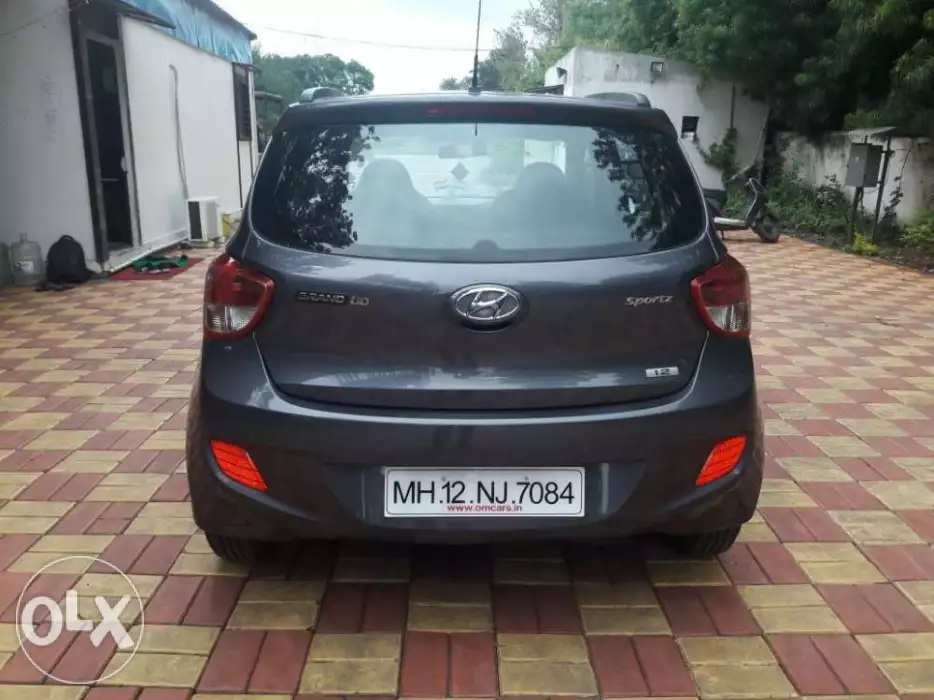licenseplate: (380, 461, 593, 521)
